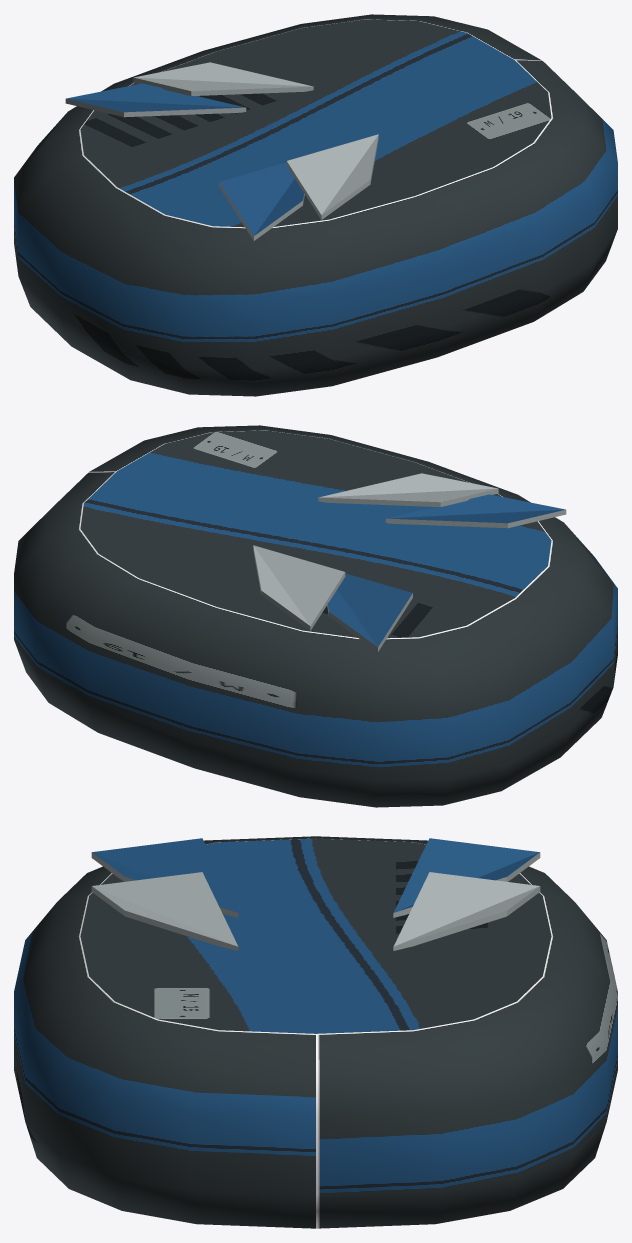
The model's file is MotorCowl_19_SR_銀嶺・青差し.glb.
3 views of the same model, one above another, from view 1: azimuth 30°, elevation 25°; view 2: azimuth 150°, elevation 25°; view 3: azimuth 270°, elevation 25° (orthographic). The views are drawn at different scales.
Visible parts, largest first — view 1: MotorCowl_19_SR; view 2: MotorCowl_19_SR; view 3: MotorCowl_19_SR.
Boxes of the visible parts, box(x1,y1,x2,y2) form: MotorCowl_19_SR: box(14, 14, 617, 396); MotorCowl_19_SR: box(14, 425, 617, 807); MotorCowl_19_SR: box(14, 836, 617, 1228).
Bounding box in the file's own units: 0.332 × 0.1197 × 0.286.
2 materials, 2 textured.
